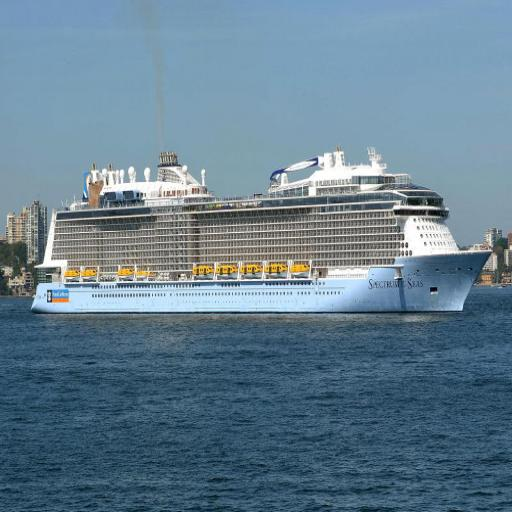cruises: (27, 144, 497, 318)
